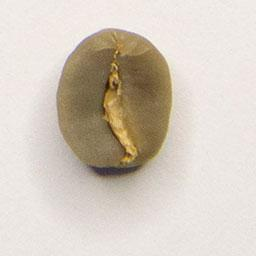premium: (52, 25, 176, 176)
